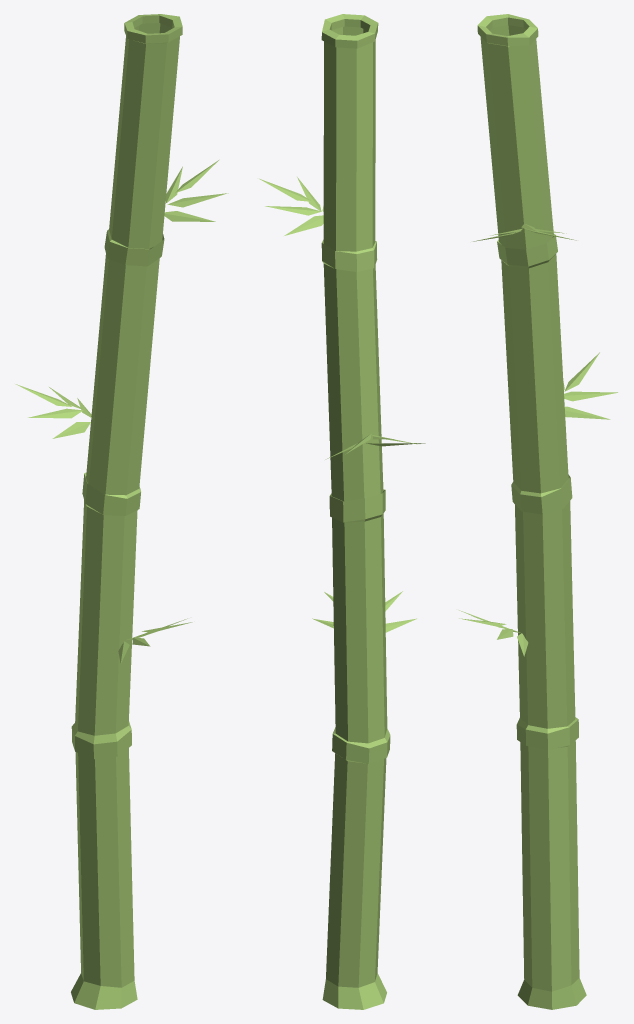
The model's file is bamboo.fbx.
3 renders of one model, left to right at view 1: azimuth 30°, elevation 25°; view 2: azimuth 150°, elevation 25°; view 3: azimuth 270°, elevation 25°, orthographic. The views are drawn at different scales.
Visible parts, largest first — view 1: Bamboo; view 2: Bamboo; view 3: Bamboo.
Boxes of the visible parts, x1=… form: Bamboo: x1=15, y1=14, x2=228, y2=1009; Bamboo: x1=259, y1=14, x2=425, y2=1009; Bamboo: x1=459, y1=14, x2=617, y2=1009.
Size of the model in its own units: 0.9897 by 5.12 by 0.7749.
